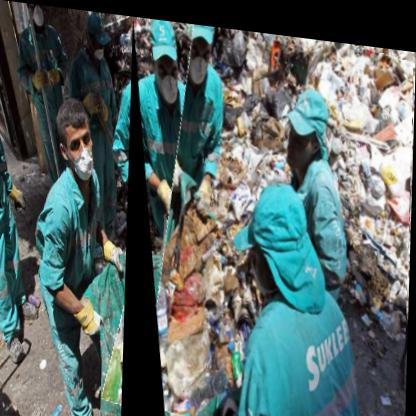Garbage: (124, 14, 416, 416)
